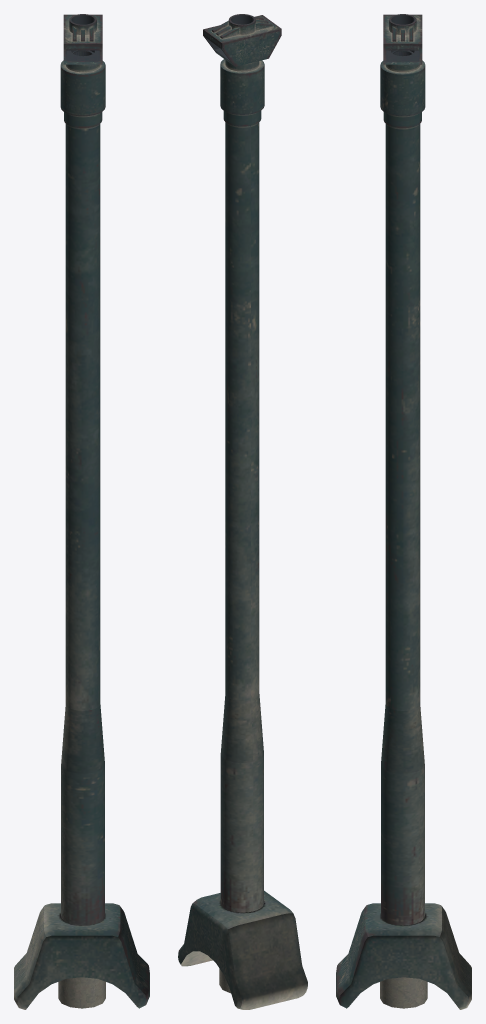
File: Gun_02.glb
The picture shows the model from 3 angles, left to right: view 1: azimuth 90°, elevation 25°; view 2: azimuth 210°, elevation 25°; view 3: azimuth 270°, elevation 25°; orthographic projection.
Parts seen in each view (by area): view 1: set_0_group_0; view 2: set_0_group_0; view 3: set_0_group_0.
Part boxes in pixels (<box>): set_0_group_0: <box>14,14,149,1009</box>; set_0_group_0: <box>178,14,307,1009</box>; set_0_group_0: <box>336,14,471,1009</box>.
Bounding box in the file's own units: 0.4285 × 5.64 × 0.7109.
Materials: 1 (1 with a texture image).
